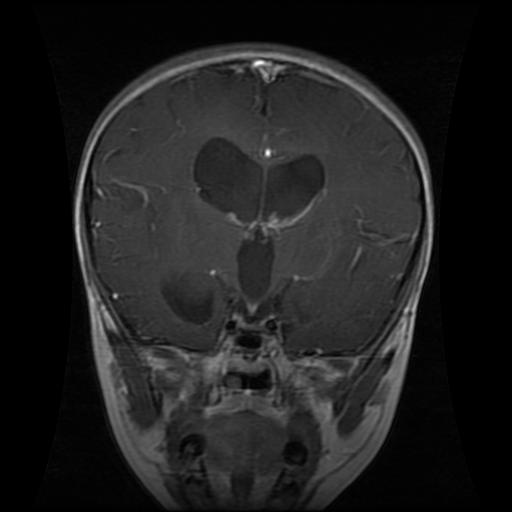Gliomia_tumour: (154, 268, 229, 327)
